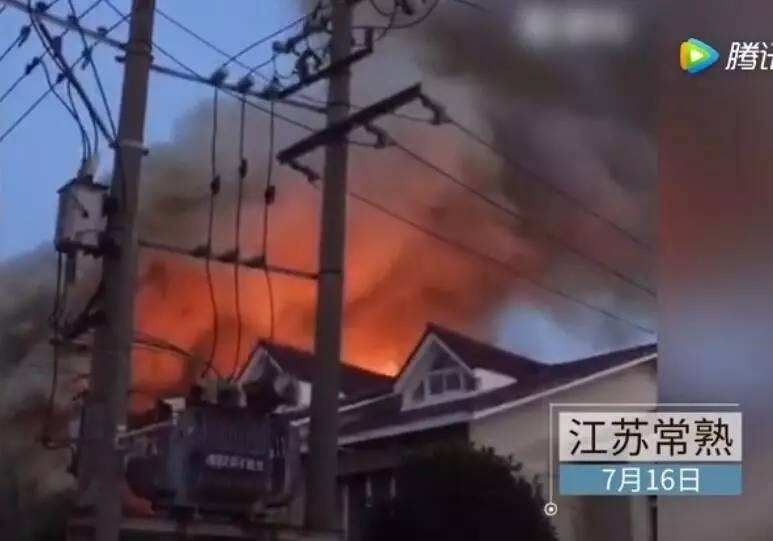fire: (129, 184, 398, 403)
